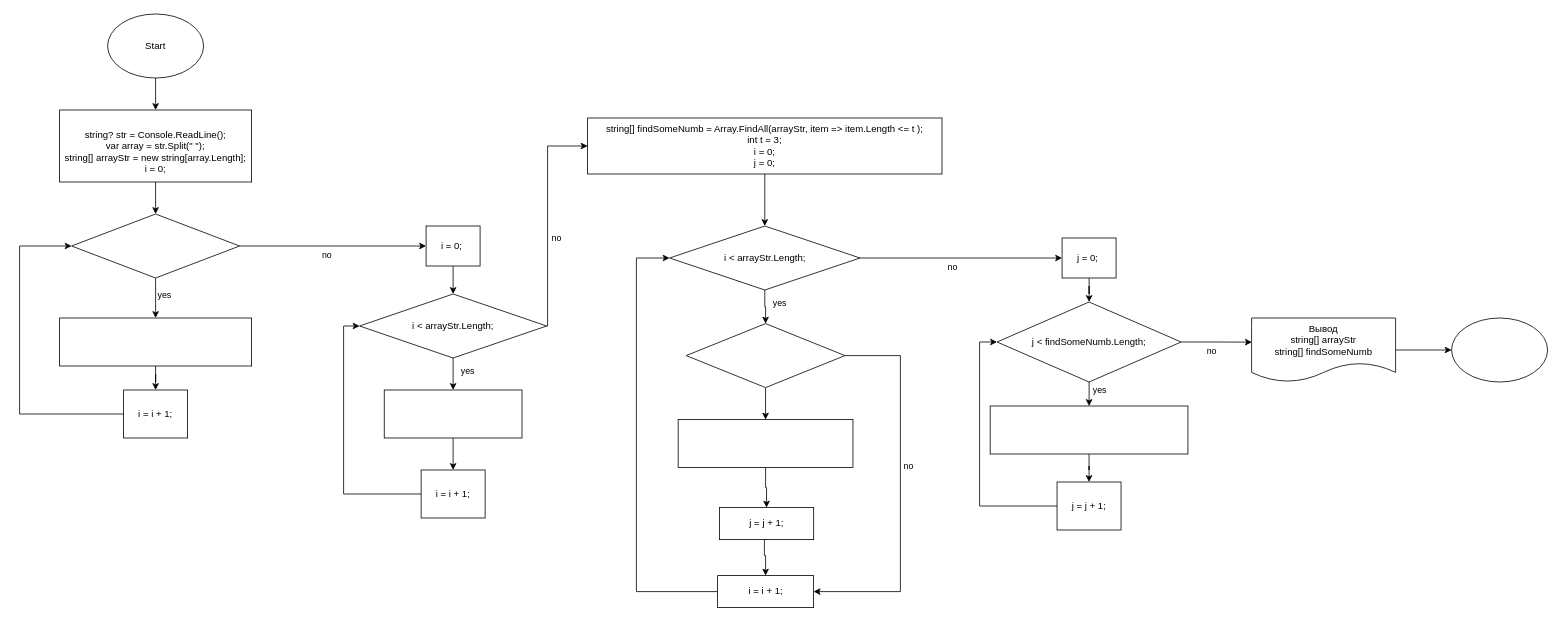
This 1562x622 diagram has some shape labels left out. Each missing label, with the box of its shape:
arrayStr[i] = Convert.ToString(array[i]);: (59, 317, 252, 366)
arrayStr[i].Length <= t;: (685, 323, 845, 388)
Console.Write(" " +arrayStr[i]);: (383, 389, 522, 438)
Console.Write(" " +findSomeNumb[ j ]);: (989, 405, 1188, 454)
findSomeNumb[j] = arrayStr[i]: (677, 419, 853, 468)
i < array.Length;: (71, 213, 240, 278)
Stop: (1451, 317, 1548, 382)
